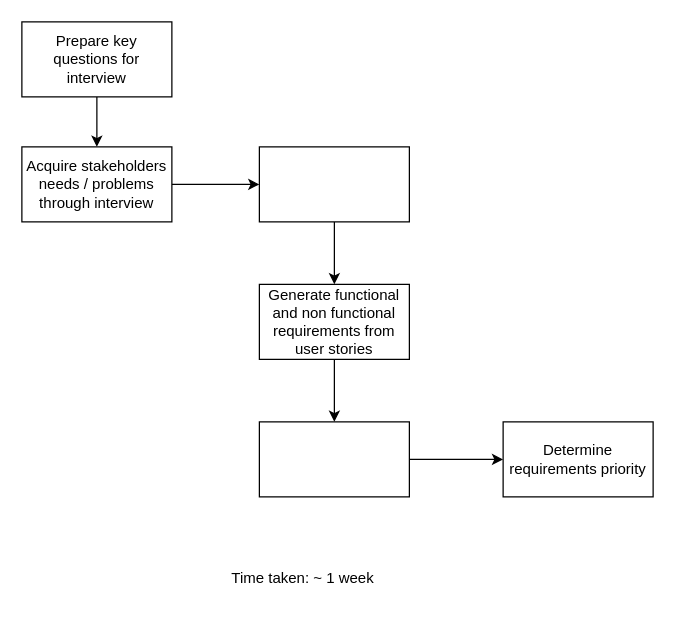
This 675x619 diagram has some shape labels left out. The shapes that lost their labels are listed below. From the top down, each one's centre as x and y in pixels, then its label:
point 333,184: Formulate user stories from needs
point 333,459: Validate requirements against needs
